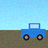vehicle: (21, 23, 45, 40)
